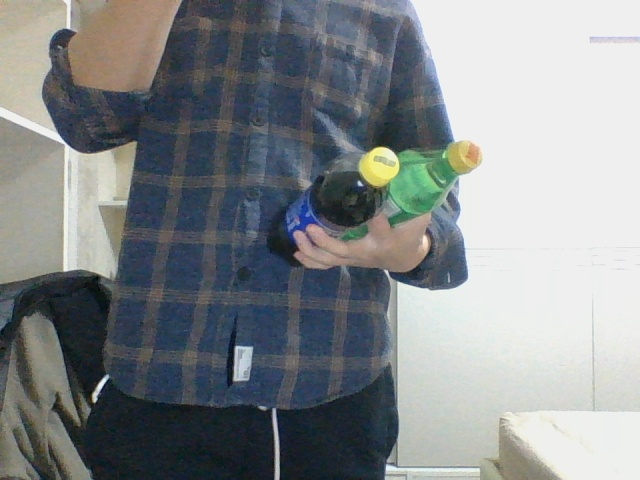Cola: (268, 146, 400, 262)
Sprite: (383, 140, 484, 224)
